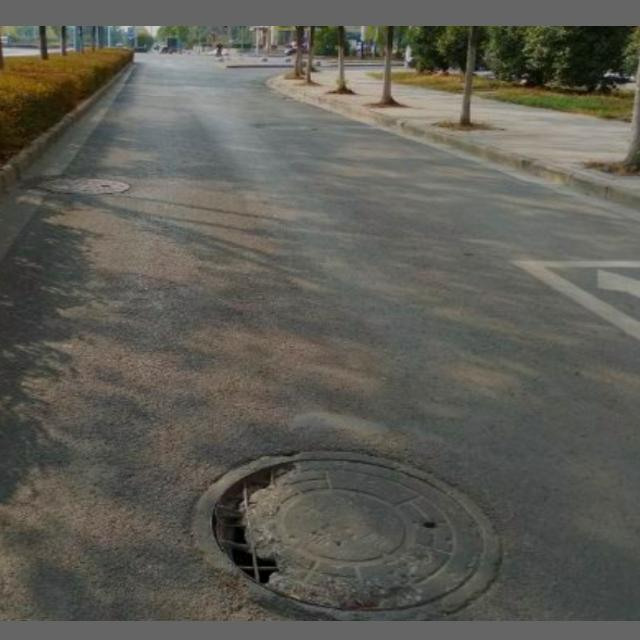broke: (192, 446, 504, 621)
